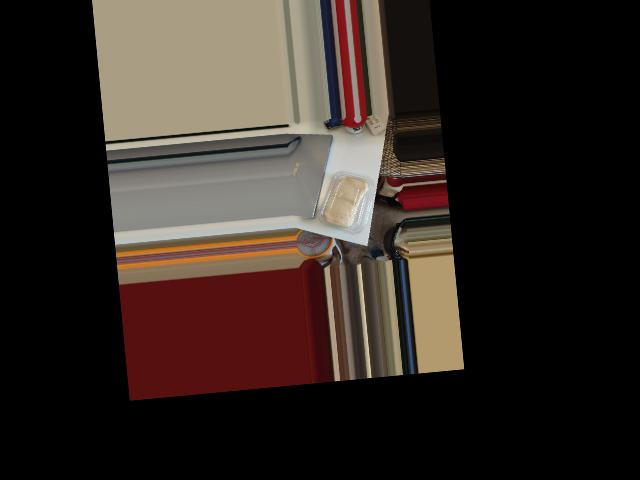cheese: (314, 166, 379, 241)
